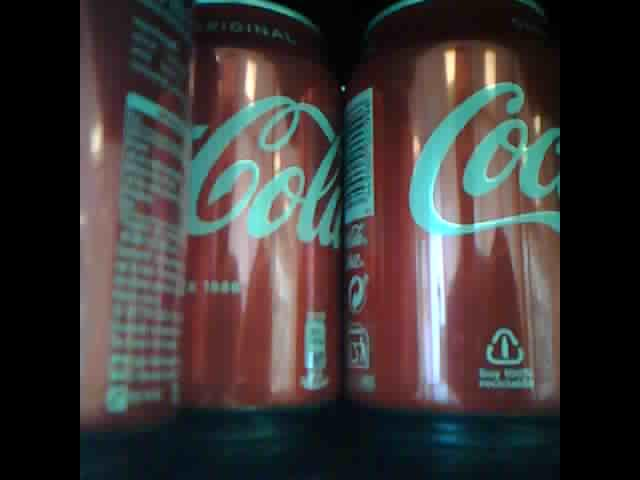coca cola: (343, 4, 561, 422), (178, 2, 343, 421), (80, 1, 194, 442)
